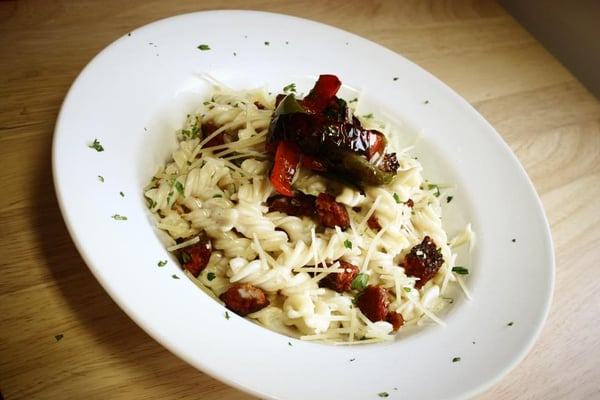sushi: (52, 4, 590, 395)
